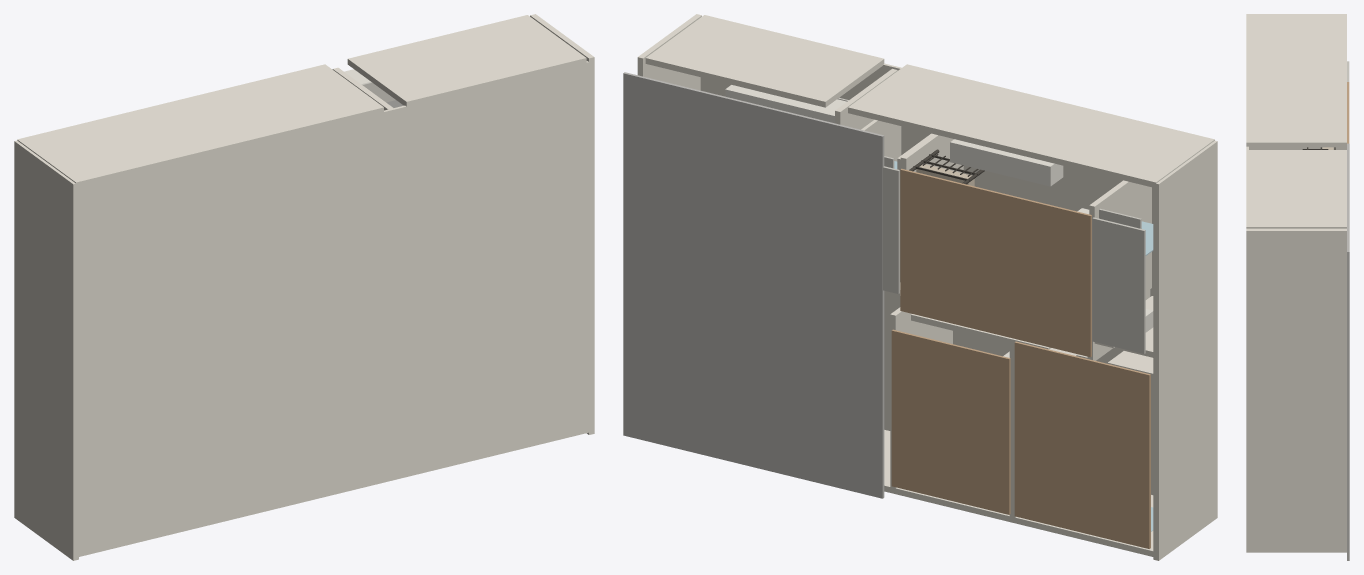
Rendered from House_Mobile_FROZEN_V1.glb.
3 views of the same model, side by side, from view 1: azimuth 30°, elevation 25°; view 2: azimuth 150°, elevation 25°; view 3: azimuth 270°, elevation 25° (orthographic). The views are drawn at different scales.
Visible parts, largest first — view 1: Ceiling_Main, W_left, W_top_left, W_top_right, W_right, W_bottom, W_master_right, W_kitchen_left, W_middle_right, W_secondary_right, W_bathR_right, W_bathL_right; view 2: Floor_LivingDining, Floor_MiddleExpanded, W_left, Floor_Master, W_top_left, Floor_Secondary, W_top_right, Ceiling_Main, Floor_BathLeft, Bay_Middle, W_bottom, Floor_BathRight (+10 smaller); view 3: W_right, W_top_left, W_top_right, Floor_LivingDining, W_bathL_right, W_middle_right, Floor_MiddleExpanded.
Boxes of the visible parts, x1,y1,x2,y2 form: Ceiling_Main: (78,61,589,555); W_left: (14,140,78,560); W_top_left: (17,64,383,188); W_top_right: (347,15,586,107); W_right: (530,14,594,434); W_bottom: (76,426,591,557); W_master_right: (217,344,222,518); W_kitchen_left: (332,67,397,237); W_middle_right: (326,157,331,288); W_secondary_right: (336,314,341,488); W_bathR_right: (388,144,393,268); W_bathL_right: (137,205,142,329); Floor_LivingDining: (623,72,884,498); Floor_MiddleExpanded: (900,168,1091,357); W_left: (1153,140,1217,560); Floor_Master: (1014,341,1150,548); W_top_left: (848,64,1214,188); Floor_Secondary: (891,329,1010,514); W_top_right: (645,15,884,107); Ceiling_Main: (700,63,1153,494); Floor_BathLeft: (1092,217,1145,353); Bay_Middle: (950,139,1063,186); W_bottom: (884,430,1155,557); Floor_BathRight: (883,166,899,293); W_right: (1246,228,1346,552); W_top_left: (1246,14,1346,147); W_top_right: (1246,152,1346,228); Floor_LivingDining: (1347,143,1349,560); W_bathL_right: (1249,147,1346,149); W_middle_right: (1249,150,1346,151); Floor_MiddleExpanded: (1347,82,1349,143).
Size of the model in its own units: 15.43 by 10.53 by 3.03.
